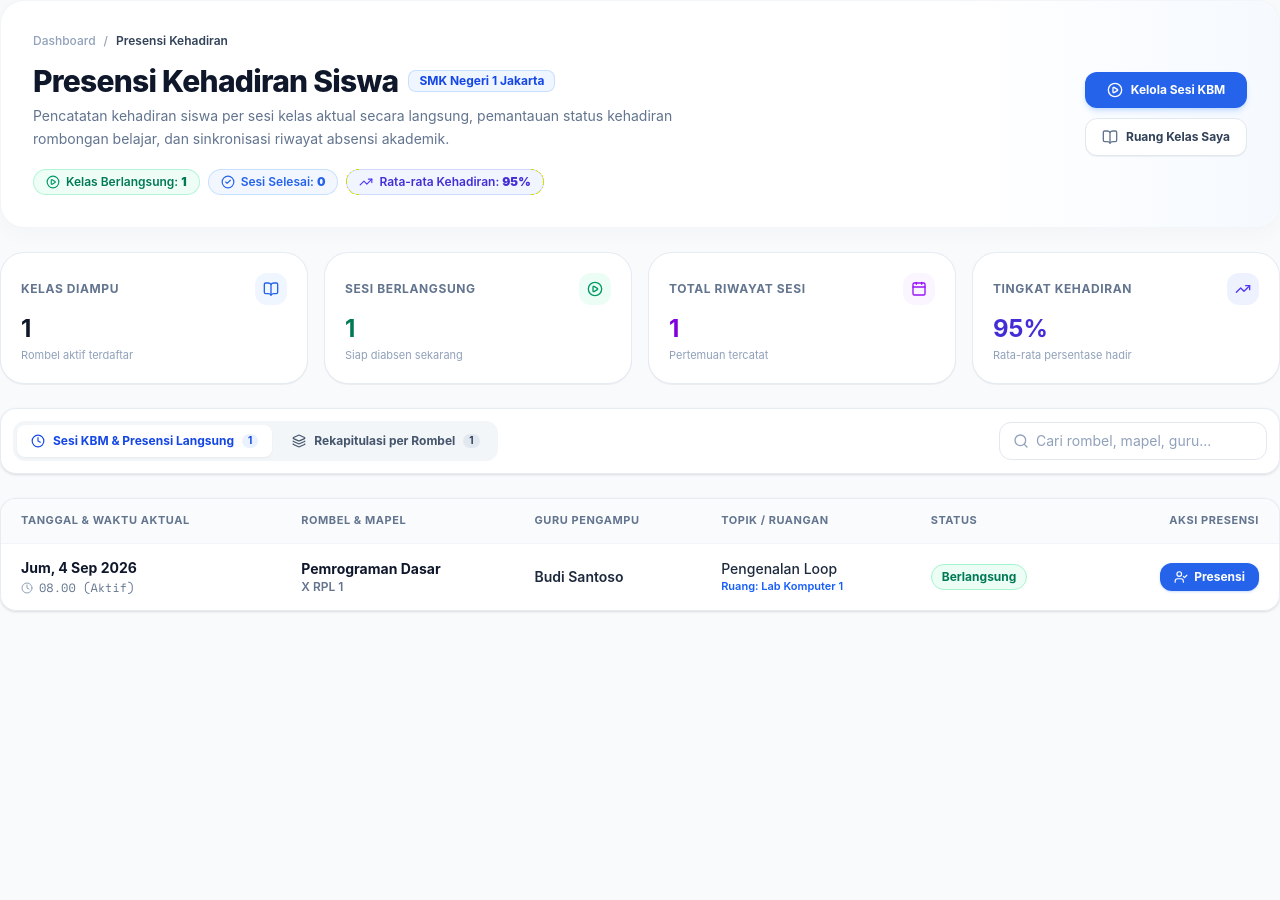
it: ClassAttendanceOverview (/presensi-kelas) › membuka modal rekapitulasi siswa saat tombol Lihat Rekap Siswa diklik
Click the button "Rekapitulasi per Rombel 1": (386, 441) [278, 425, 494, 457]
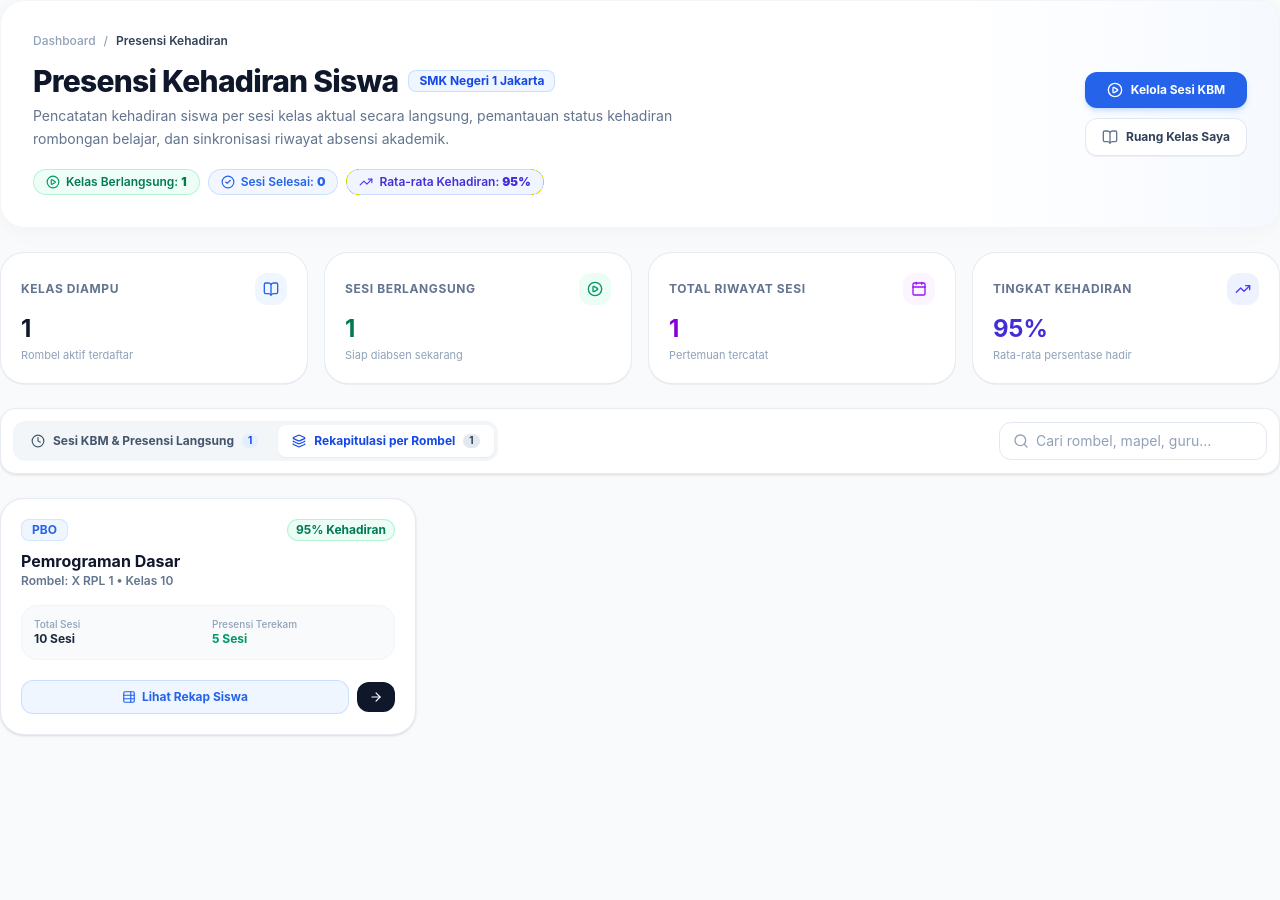
Click the button "Lihat Rekap Siswa": (185, 697) [21, 680, 349, 714]
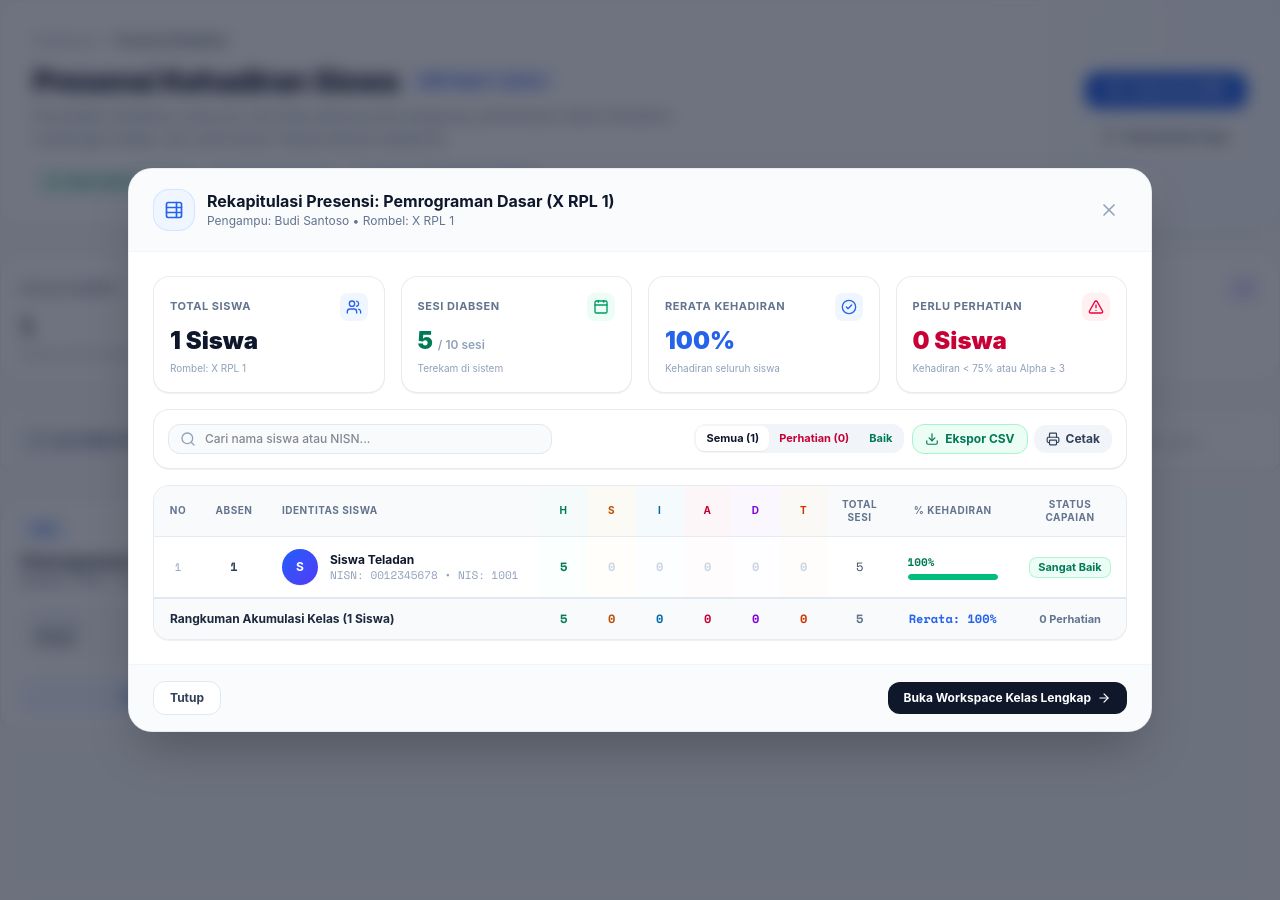
Expected: the text "Siswa Teladan" is shown, [330, 552, 414, 567]
